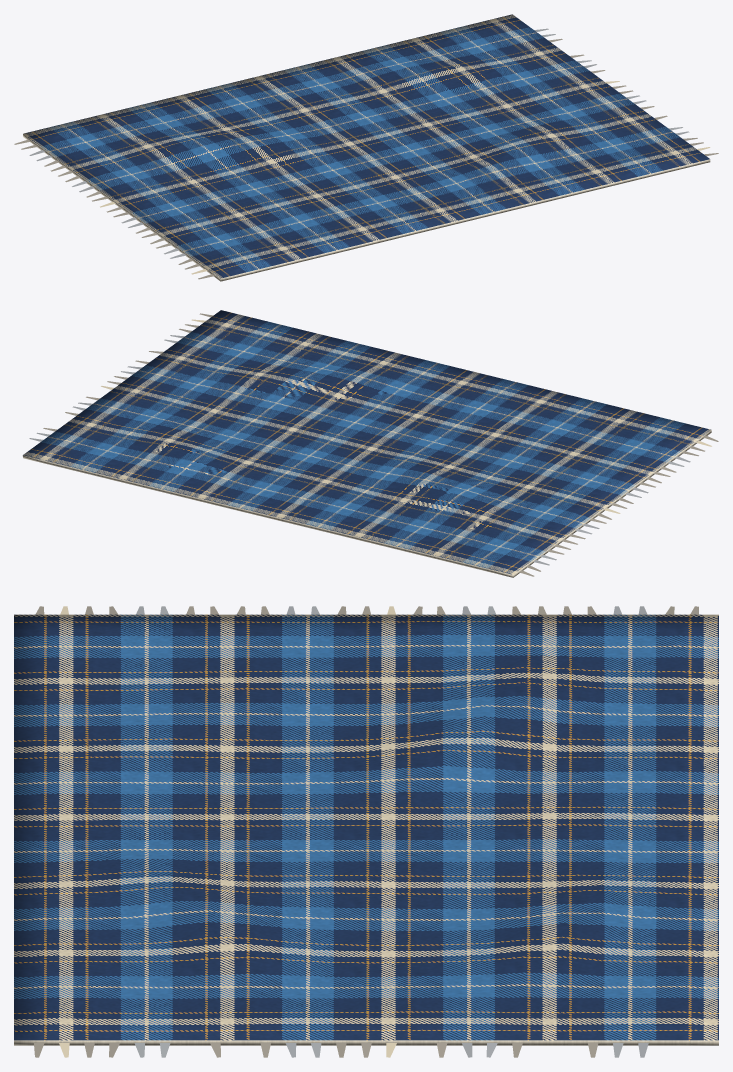
The model's file is blanket_navy.glb.
The picture shows the model from 3 angles, top to bottom: view 1: azimuth 30°, elevation 25°; view 2: azimuth 150°, elevation 25°; view 3: azimuth 270°, elevation 25°; orthographic projection. The views are drawn at different scales.
Parts seen in each view (by area): view 1: blanket; view 2: blanket; view 3: blanket.
Part boxes in pixels (x1,y1,x2,y2): blanket: (14,14,718,281); blanket: (22,310,718,577); blanket: (14,606,718,1057).
Size of the model in its own units: 2.12 by 0.036 by 1.4.
Materials: 3 (3 with a texture image).
